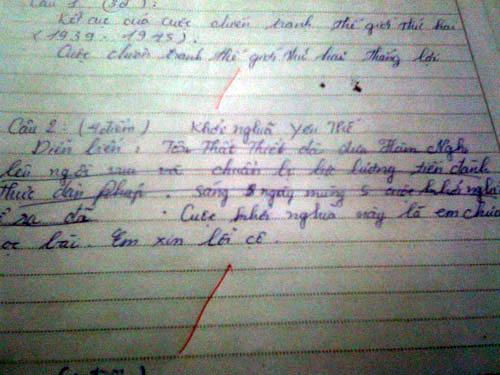text: (1, 175, 500, 209), (2, 154, 493, 188), (29, 134, 470, 163), (55, 7, 458, 38), (55, 44, 442, 71), (6, 114, 363, 143), (179, 199, 500, 231), (0, 226, 268, 258), (31, 27, 196, 47), (0, 202, 95, 228), (29, 0, 159, 12)
